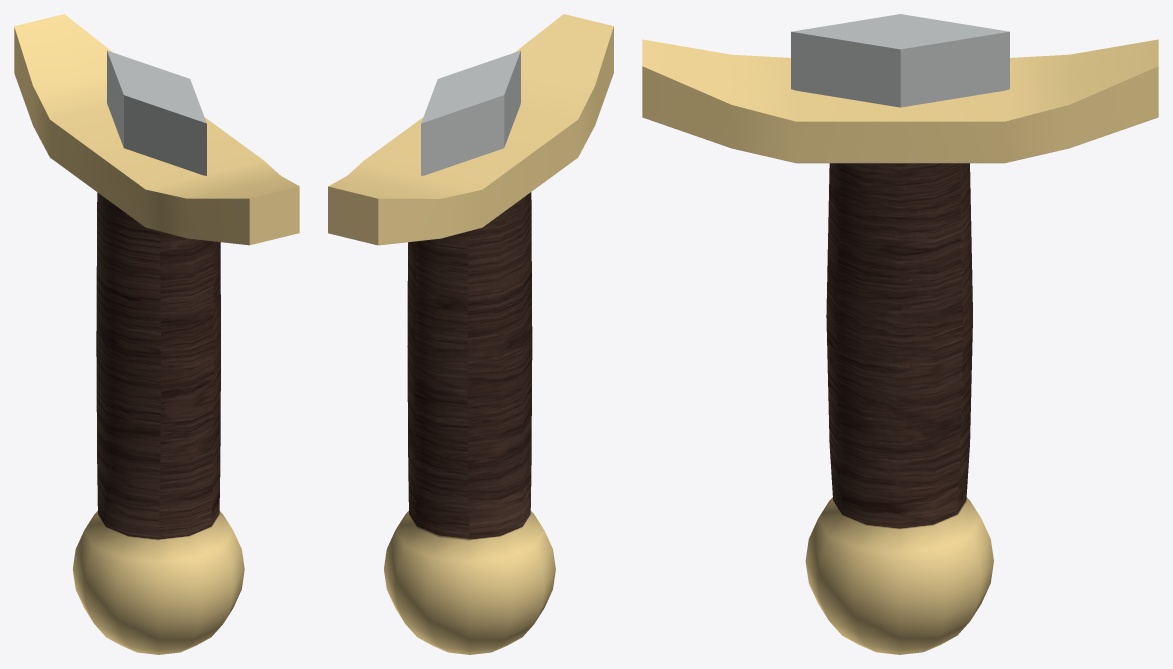
The model's file is BladePieces_3_FINAL.fbx.
The picture shows the model from 3 angles, left to right: view 1: azimuth 30°, elevation 25°; view 2: azimuth 150°, elevation 25°; view 3: azimuth 270°, elevation 25°; orthographic projection. The views are drawn at different scales.
Parts seen in each view (by area): view 1: polySurface10; view 2: polySurface10; view 3: polySurface10.
Boxes of the visible parts, x1=… form: polySurface10: x1=14, y1=14, x2=299, y2=654; polySurface10: x1=328, y1=14, x2=613, y2=654; polySurface10: x1=642, y1=14, x2=1158, y2=654.
Size of the model in its own units: 2.72 by 9.77 by 7.44.
Materials: 1 (1 with a texture image).
